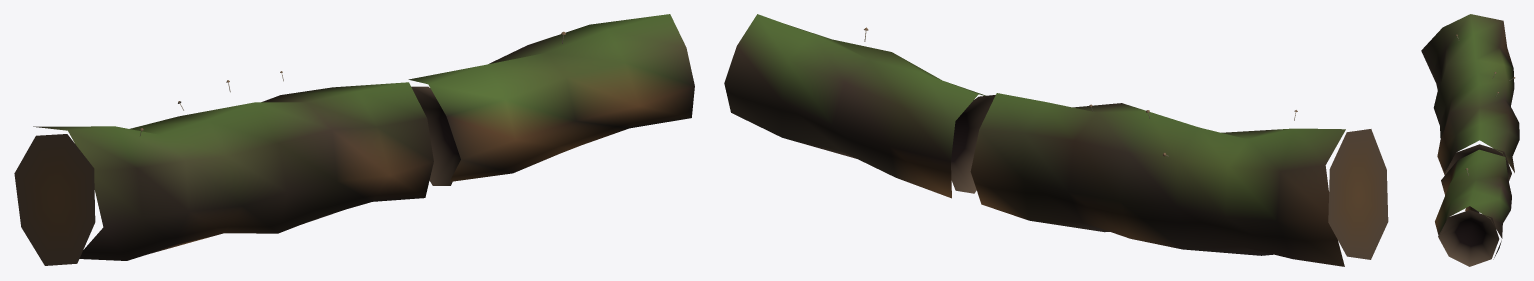
File: log-rotten-a.lod1.glb
3 renders of one model, left to right at view 1: azimuth 30°, elevation 25°; view 2: azimuth 150°, elevation 25°; view 3: azimuth 270°, elevation 25°, orthographic. The views are drawn at different scales.
Size of the model in its own units: 3.24 by 0.7728 by 0.7356.
